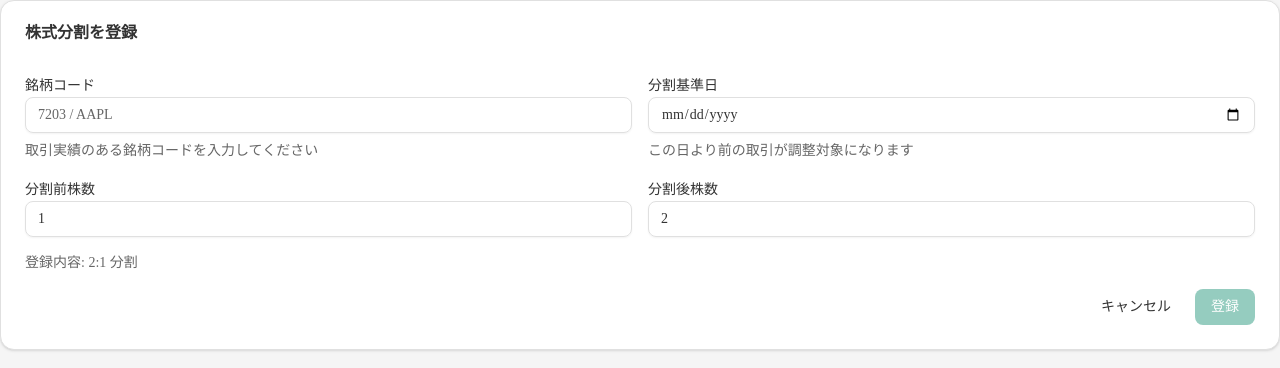
it: StockSplitForm › 併合の株数を入力すると併合として表示する
Replace the text in the number field labelled "分割前株数" with "2" at (328,219), box [25,201,632,237]
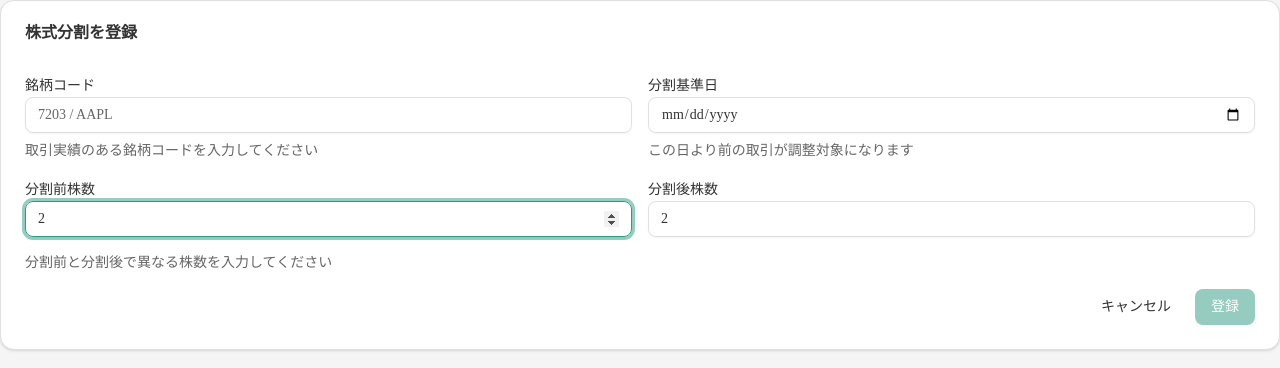
Replace the text in the number field labelled "分割後株数" with "1" at (952,219), box [648,201,1255,237]
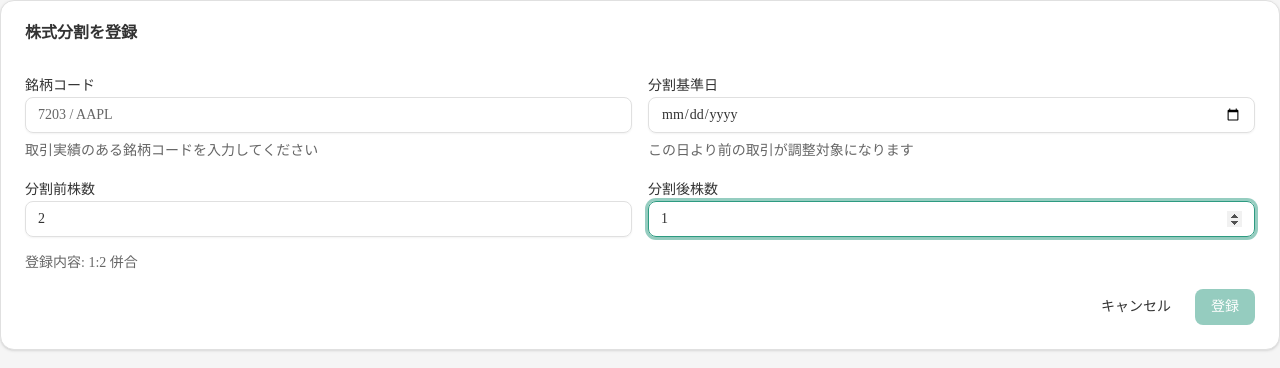
Result: the text "登録内容: 1:2 併合" is shown at [25,255,138,270]
